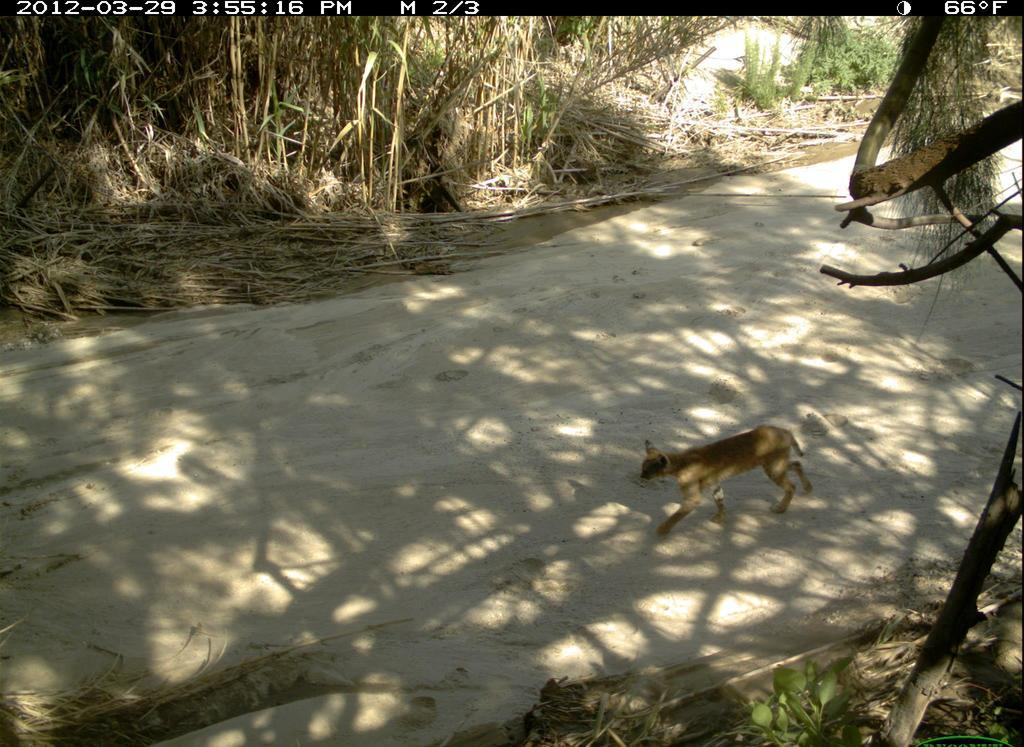bobcat: (633, 420, 820, 545)
